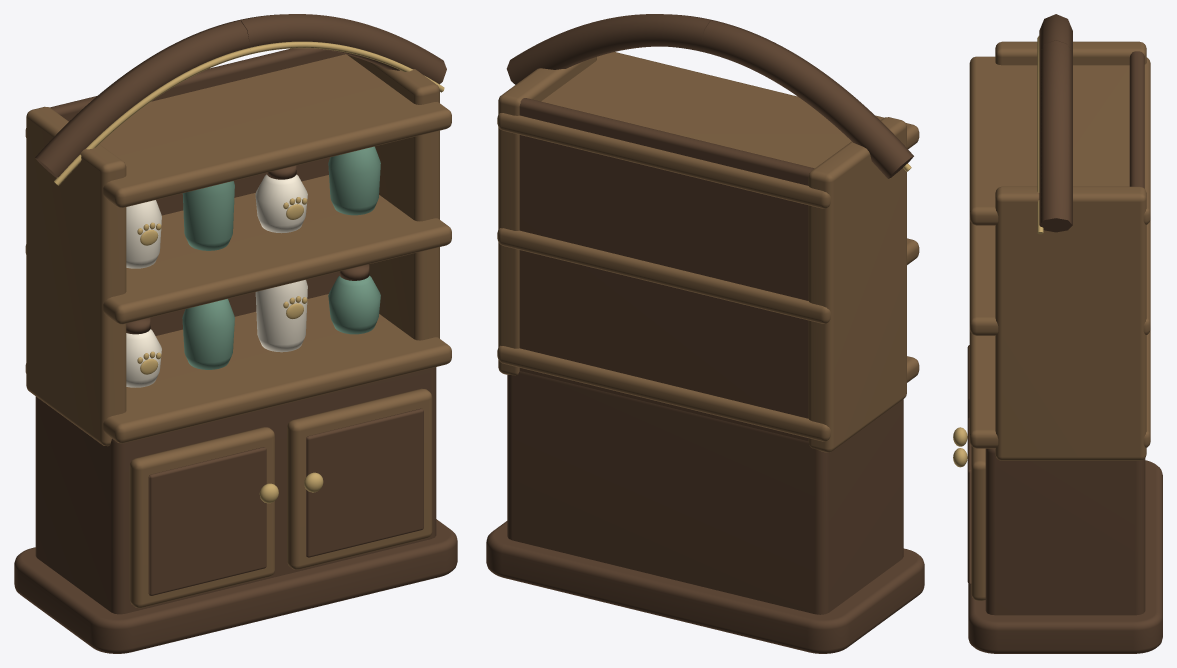
The model's file is apothecary_shelf_atelier.glb.
3 views of the same model, side by side, from view 1: azimuth 30°, elevation 25°; view 2: azimuth 150°, elevation 25°; view 3: azimuth 270°, elevation 25° (orthographic). The views are drawn at different scales.
Visible parts, largest first — view 1: apothecary_shelf_atelier__TaggedPainted_apothecary_shelf_ate, apothecary_shelf_atelier__Painted_apothecary_shelf_atelier_G, apothecary_shelf_atelier__Painted_apothecary_shelf_atelier_M; view 2: apothecary_shelf_atelier__TaggedPainted_apothecary_shelf_ate; view 3: apothecary_shelf_atelier__TaggedPainted_apothecary_shelf_ate, apothecary_shelf_atelier__Painted_apothecary_shelf_atelier_M.
Part boxes in pixels (box(x1,y1,x2,y2)): apothecary_shelf_atelier__TaggedPainted_apothecary_shelf_ate: box(14, 14, 457, 653); apothecary_shelf_atelier__Painted_apothecary_shelf_atelier_G: box(126, 146, 380, 387); apothecary_shelf_atelier__Painted_apothecary_shelf_atelier_M: box(54, 41, 444, 503); apothecary_shelf_atelier__TaggedPainted_apothecary_shelf_ate: box(486, 14, 924, 653); apothecary_shelf_atelier__TaggedPainted_apothecary_shelf_ate: box(967, 14, 1162, 653); apothecary_shelf_atelier__Painted_apothecary_shelf_atelier_M: box(953, 36, 1043, 467).
Bounding box in the file's own units: 1.64 × 2.17 × 0.776.
